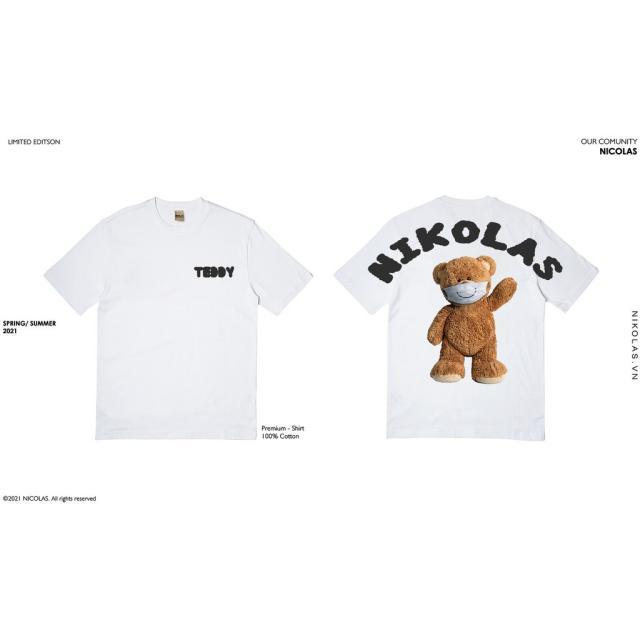Shirt: (46, 196, 316, 444), (332, 194, 600, 443)
